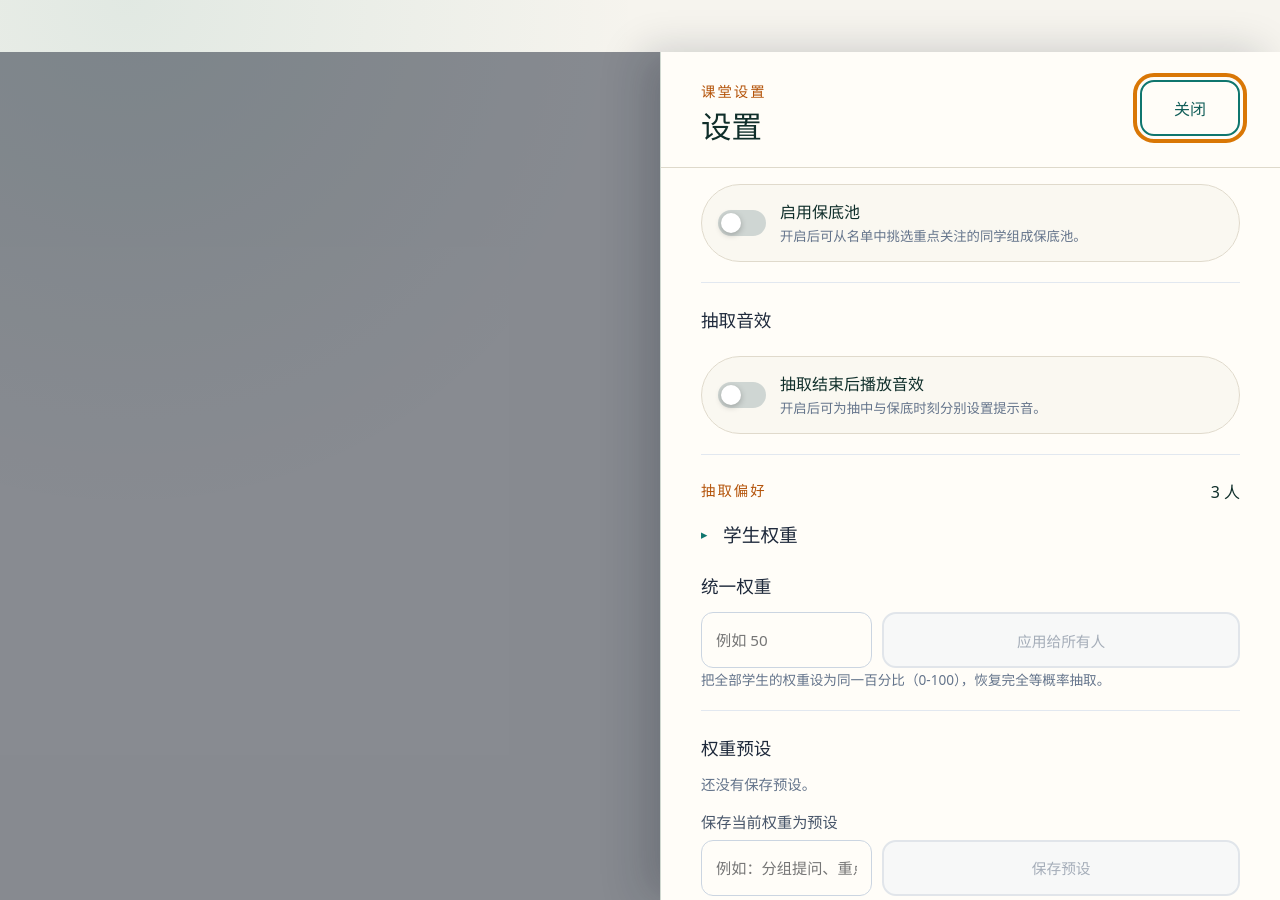
it: 设置抽屉 › 权重与历史默认折叠，展开后才渲染内部内容
The width and height of the screenshot is (1280, 900).
(page scrolled)
Expected: the text "学生0" is not shown
Expected: the text "3 人" is shown, [1211,479,1240,503]
Click the button "▸ 学生权重".
click(749, 534)  # box [701,518,798,549]
(page scrolled)
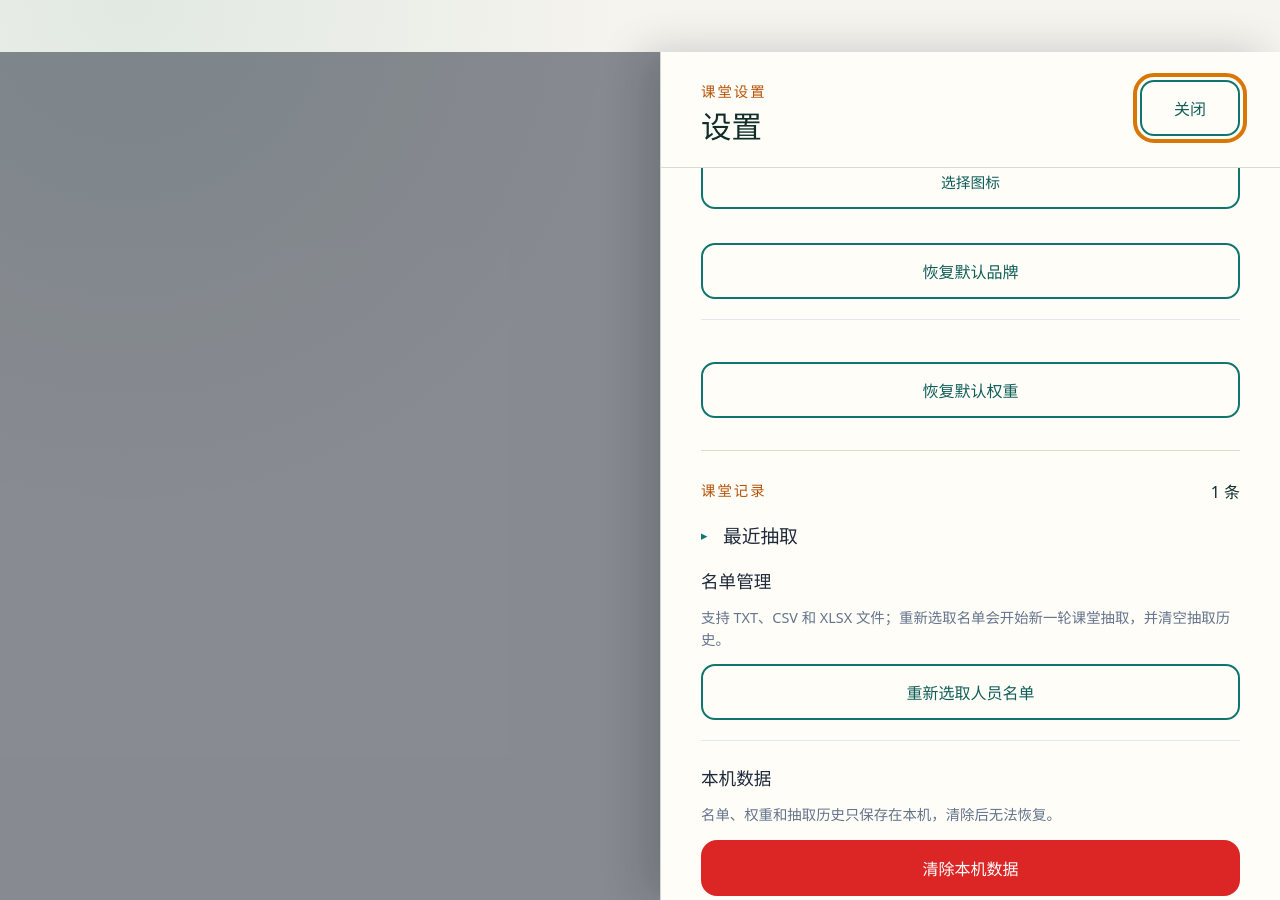
Click the button "▸ 最近抽取".
click(749, 535)  # box [701,519,798,550]
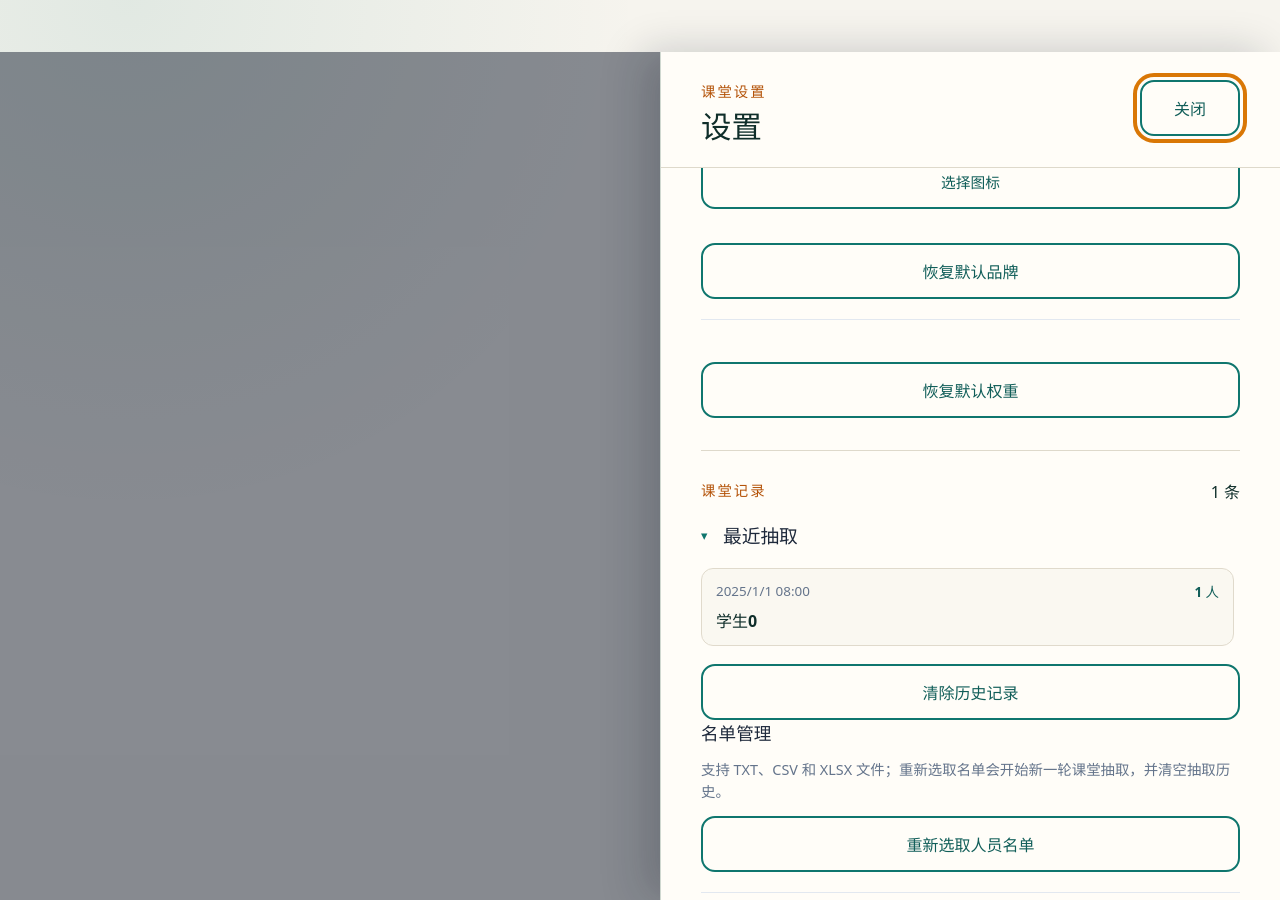
Result: the text "学生0" is shown at [716,610,757,632]
